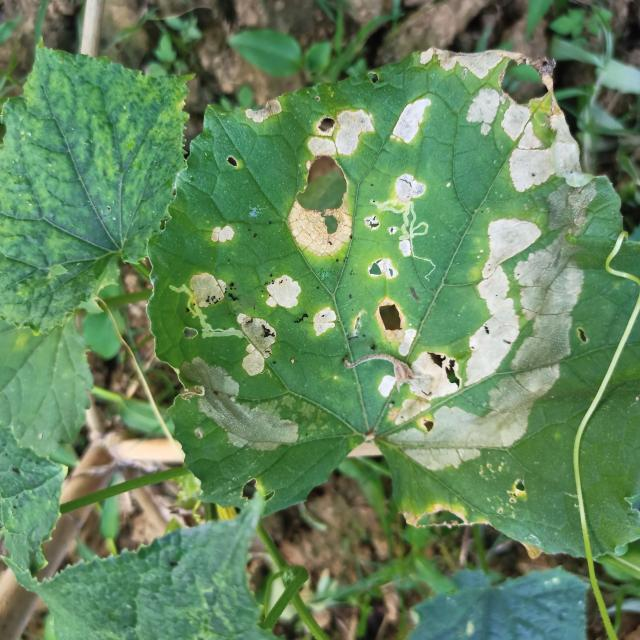disease_cucumber: (236, 48, 593, 233), (354, 215, 585, 478), (163, 217, 352, 454)
